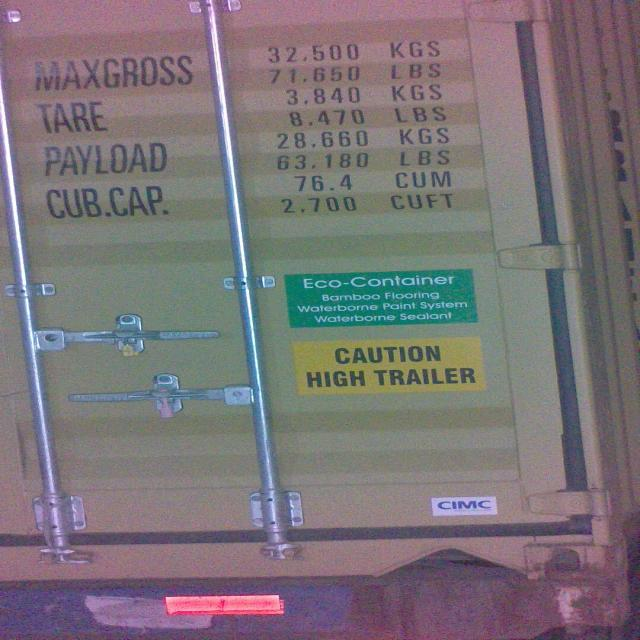seal: (116, 328, 142, 359), (152, 386, 176, 416)
